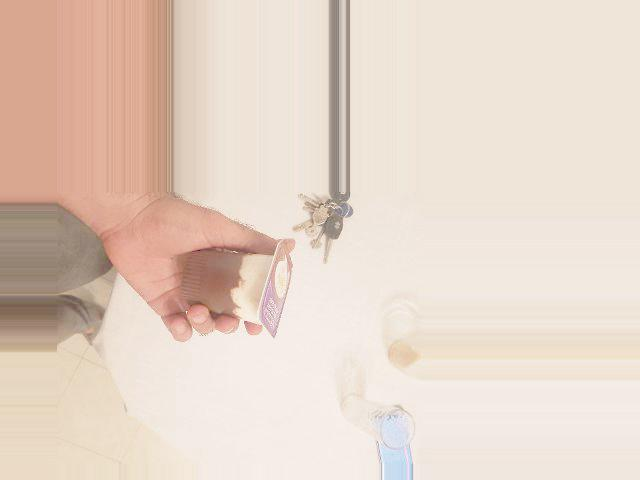milky: (197, 313, 283, 440)
